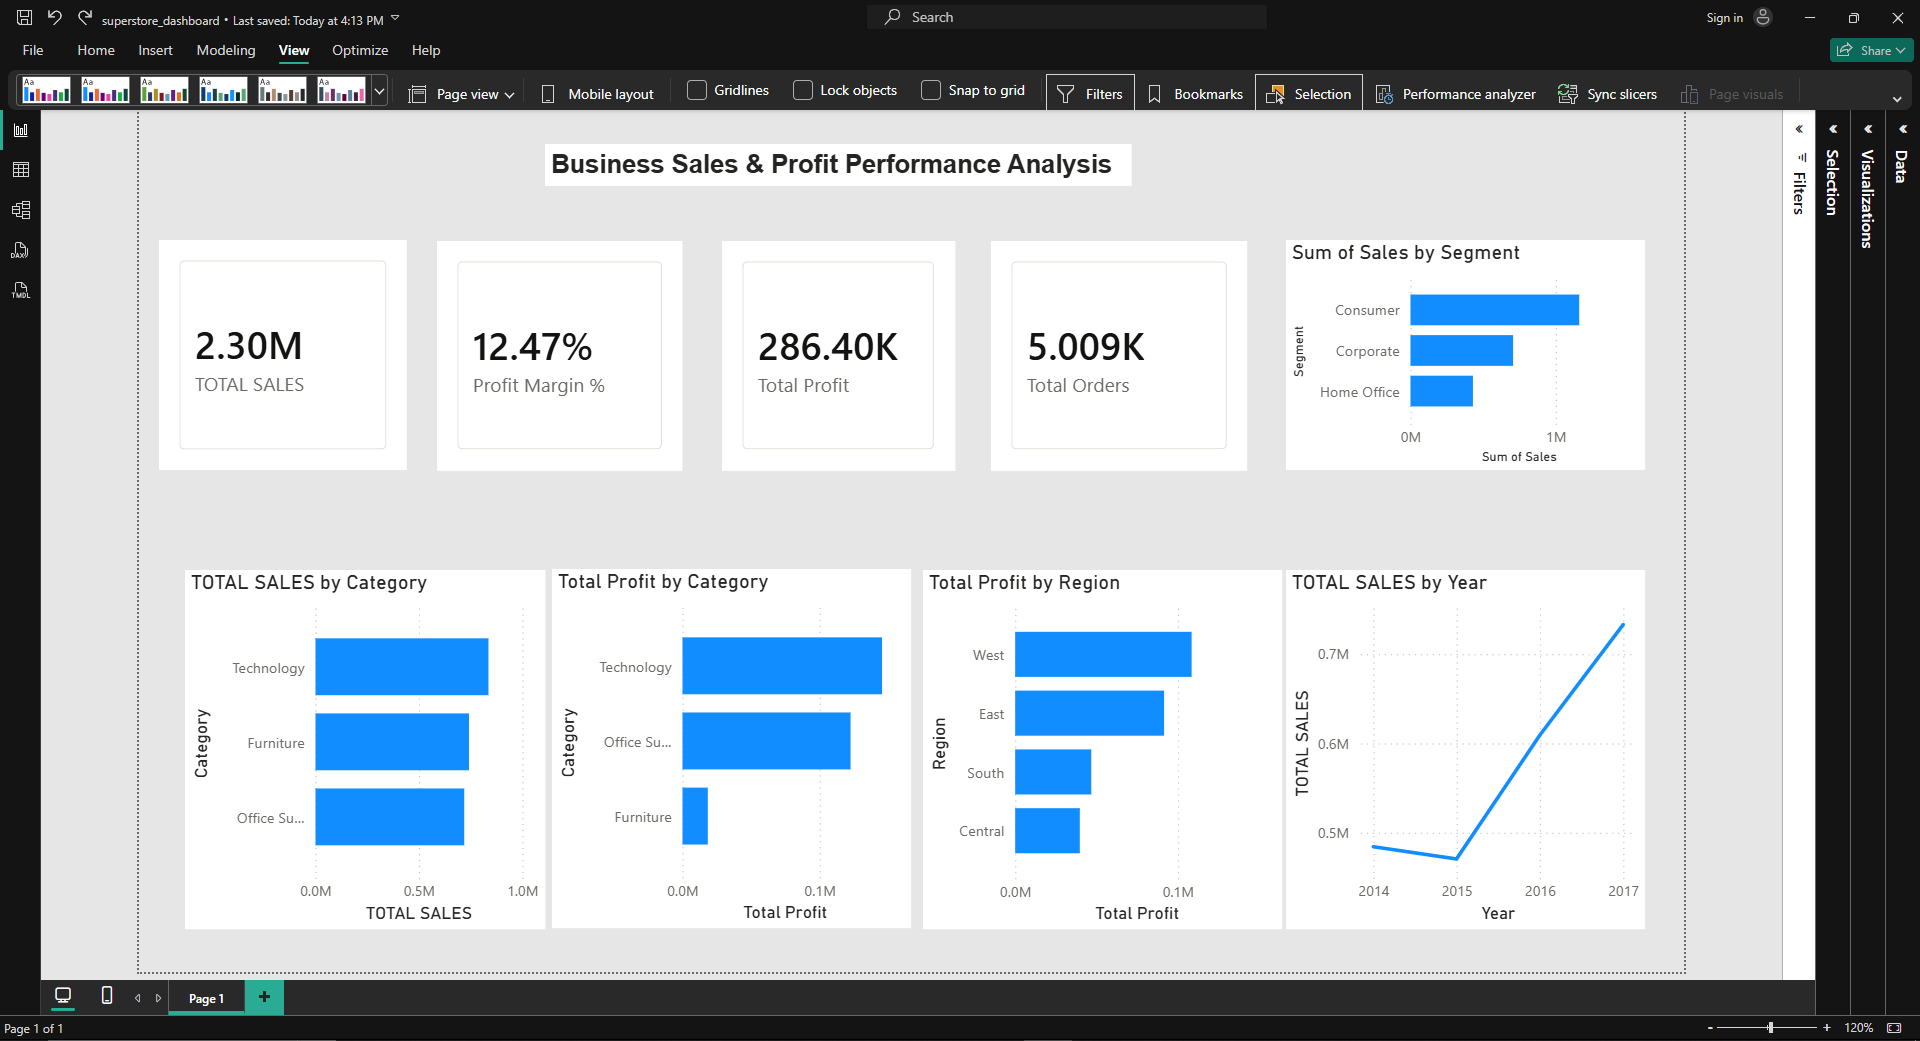

The page's visual inventory and layout, read from the dashboard file:
{"tool":"powerbi","page":{"name":"Page 1","canvas":[1290,720],"ordinal":0},"visuals":[{"type":"cardVisual","fields":{"Data":["cleaned_superstore.TOTAL SALES"]},"box":[16.5,108.7,207.5,192.1],"z":0},{"type":"cardVisual","fields":{"Data":["cleaned_superstore.Total Orders"]},"box":[711.9,109.1,214.3,191.7],"z":1000},{"type":"cardVisual","fields":{"Data":["cleaned_superstore.Total Profit"]},"box":[486.7,109.1,194.7,191.7],"z":2000},{"type":"cardVisual","fields":{"Data":["cleaned_superstore.Profit Margin %"]},"box":[248.8,109.1,205.5,191.7],"z":3000},{"type":"clusteredBarChart","fields":{"Category":["cleaned_superstore.Category"],"Y":["cleaned_superstore.TOTAL SALES"]},"box":[38.4,384.2,300.8,299.7],"z":4000},{"type":"clusteredBarChart","fields":{"Category":["cleaned_superstore.Category"],"Y":["cleaned_superstore.Total Profit"]},"box":[345.1,383.5,299.9,299.9],"z":5000},{"type":"clusteredBarChart","fields":{"Category":["cleaned_superstore.Region"],"Y":["cleaned_superstore.Total Profit"]},"box":[654.8,384.4,299.9,299.9],"z":6000},{"type":"lineChart","fields":{"Category":["cleaned_superstore.Order Date.Variation.Date Hierarchy.Year","cleaned_superstore.Order Date.Variation.Date Hierarchy.Quarter","cleaned_superstore.Order Date.Variation.Date Hierarchy.Month","cleaned_superstore.Order Date.Variation.Date Hierarchy.Day"],"Y":["cleaned_superstore.TOTAL SALES"]},"box":[958.4,384.2,299.7,299.7],"z":7000},{"type":"textbox","box":[339.2,28.5,489.6,35.1],"z":8000},{"type":"clusteredBarChart","fields":{"Y":["Sum(cleaned_superstore.Sales)"],"Category":["cleaned_superstore.Segment"]},"box":[958,109,300,192],"z":9000}]}

Visuals, with their boxes on the page's 1290x720 design canvas (x1, y1, x2, y2). These are canvas units, not pixel positions in the 1920x1041 screenshot, which may show the page scaled, cropped or inside an application window:
cardVisual - cleaned_superstore.TOTAL SALES: (x1=16, y1=109, x2=224, y2=301)
cardVisual - cleaned_superstore.Total Orders: (x1=712, y1=109, x2=926, y2=301)
cardVisual - cleaned_superstore.Total Profit: (x1=487, y1=109, x2=681, y2=301)
cardVisual - cleaned_superstore.Profit Margin %: (x1=249, y1=109, x2=454, y2=301)
clusteredBarChart - cleaned_superstore.Category x cleaned_superstore.TOTAL SALES: (x1=38, y1=384, x2=339, y2=684)
clusteredBarChart - cleaned_superstore.Category x cleaned_superstore.Total Profit: (x1=345, y1=384, x2=645, y2=683)
clusteredBarChart - cleaned_superstore.Region x cleaned_superstore.Total Profit: (x1=655, y1=384, x2=955, y2=684)
lineChart - cleaned_superstore.Order Date.Variation.Date Hierarchy.Year x cleaned_superstore.Order Date.Variation.Date Hierarchy.Quarter: (x1=958, y1=384, x2=1258, y2=684)
textbox: (x1=339, y1=28, x2=829, y2=64)
clusteredBarChart - Sum(cleaned_superstore.Sales) x cleaned_superstore.Segment: (x1=958, y1=109, x2=1258, y2=301)
